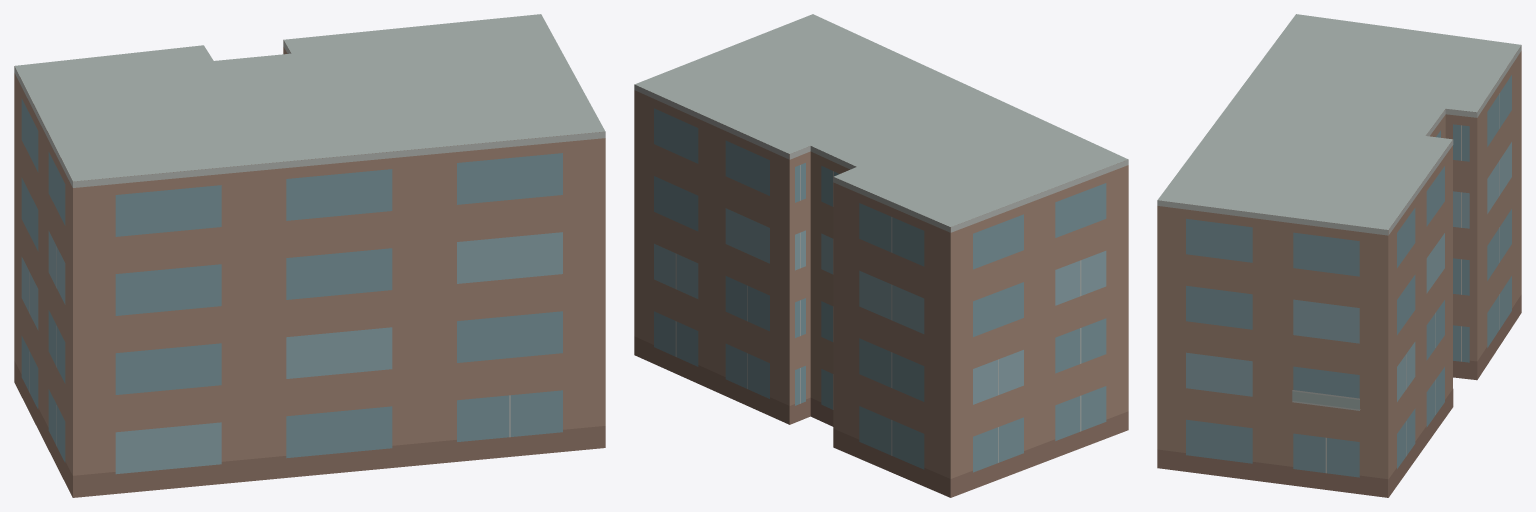
File: survey-upis-32879740.glb
3 renders of one model, left to right at view 1: azimuth 30°, elevation 25°; view 2: azimuth 150°, elevation 25°; view 3: azimuth 270°, elevation 25°, orthographic. The views are drawn at different scales.
Parts seen in each view (by area): view 1: survey-upis-32879740.tmp; view 2: survey-upis-32879740.tmp; view 3: survey-upis-32879740.tmp.
Boxes of the visible parts, left/top/right/bottom form: survey-upis-32879740.tmp: left=14, top=14, right=605, bottom=497; survey-upis-32879740.tmp: left=634, top=14, right=1128, bottom=497; survey-upis-32879740.tmp: left=1157, top=14, right=1521, bottom=497.
Size of the model in its own units: 20.25 by 11.7 by 14.43.
